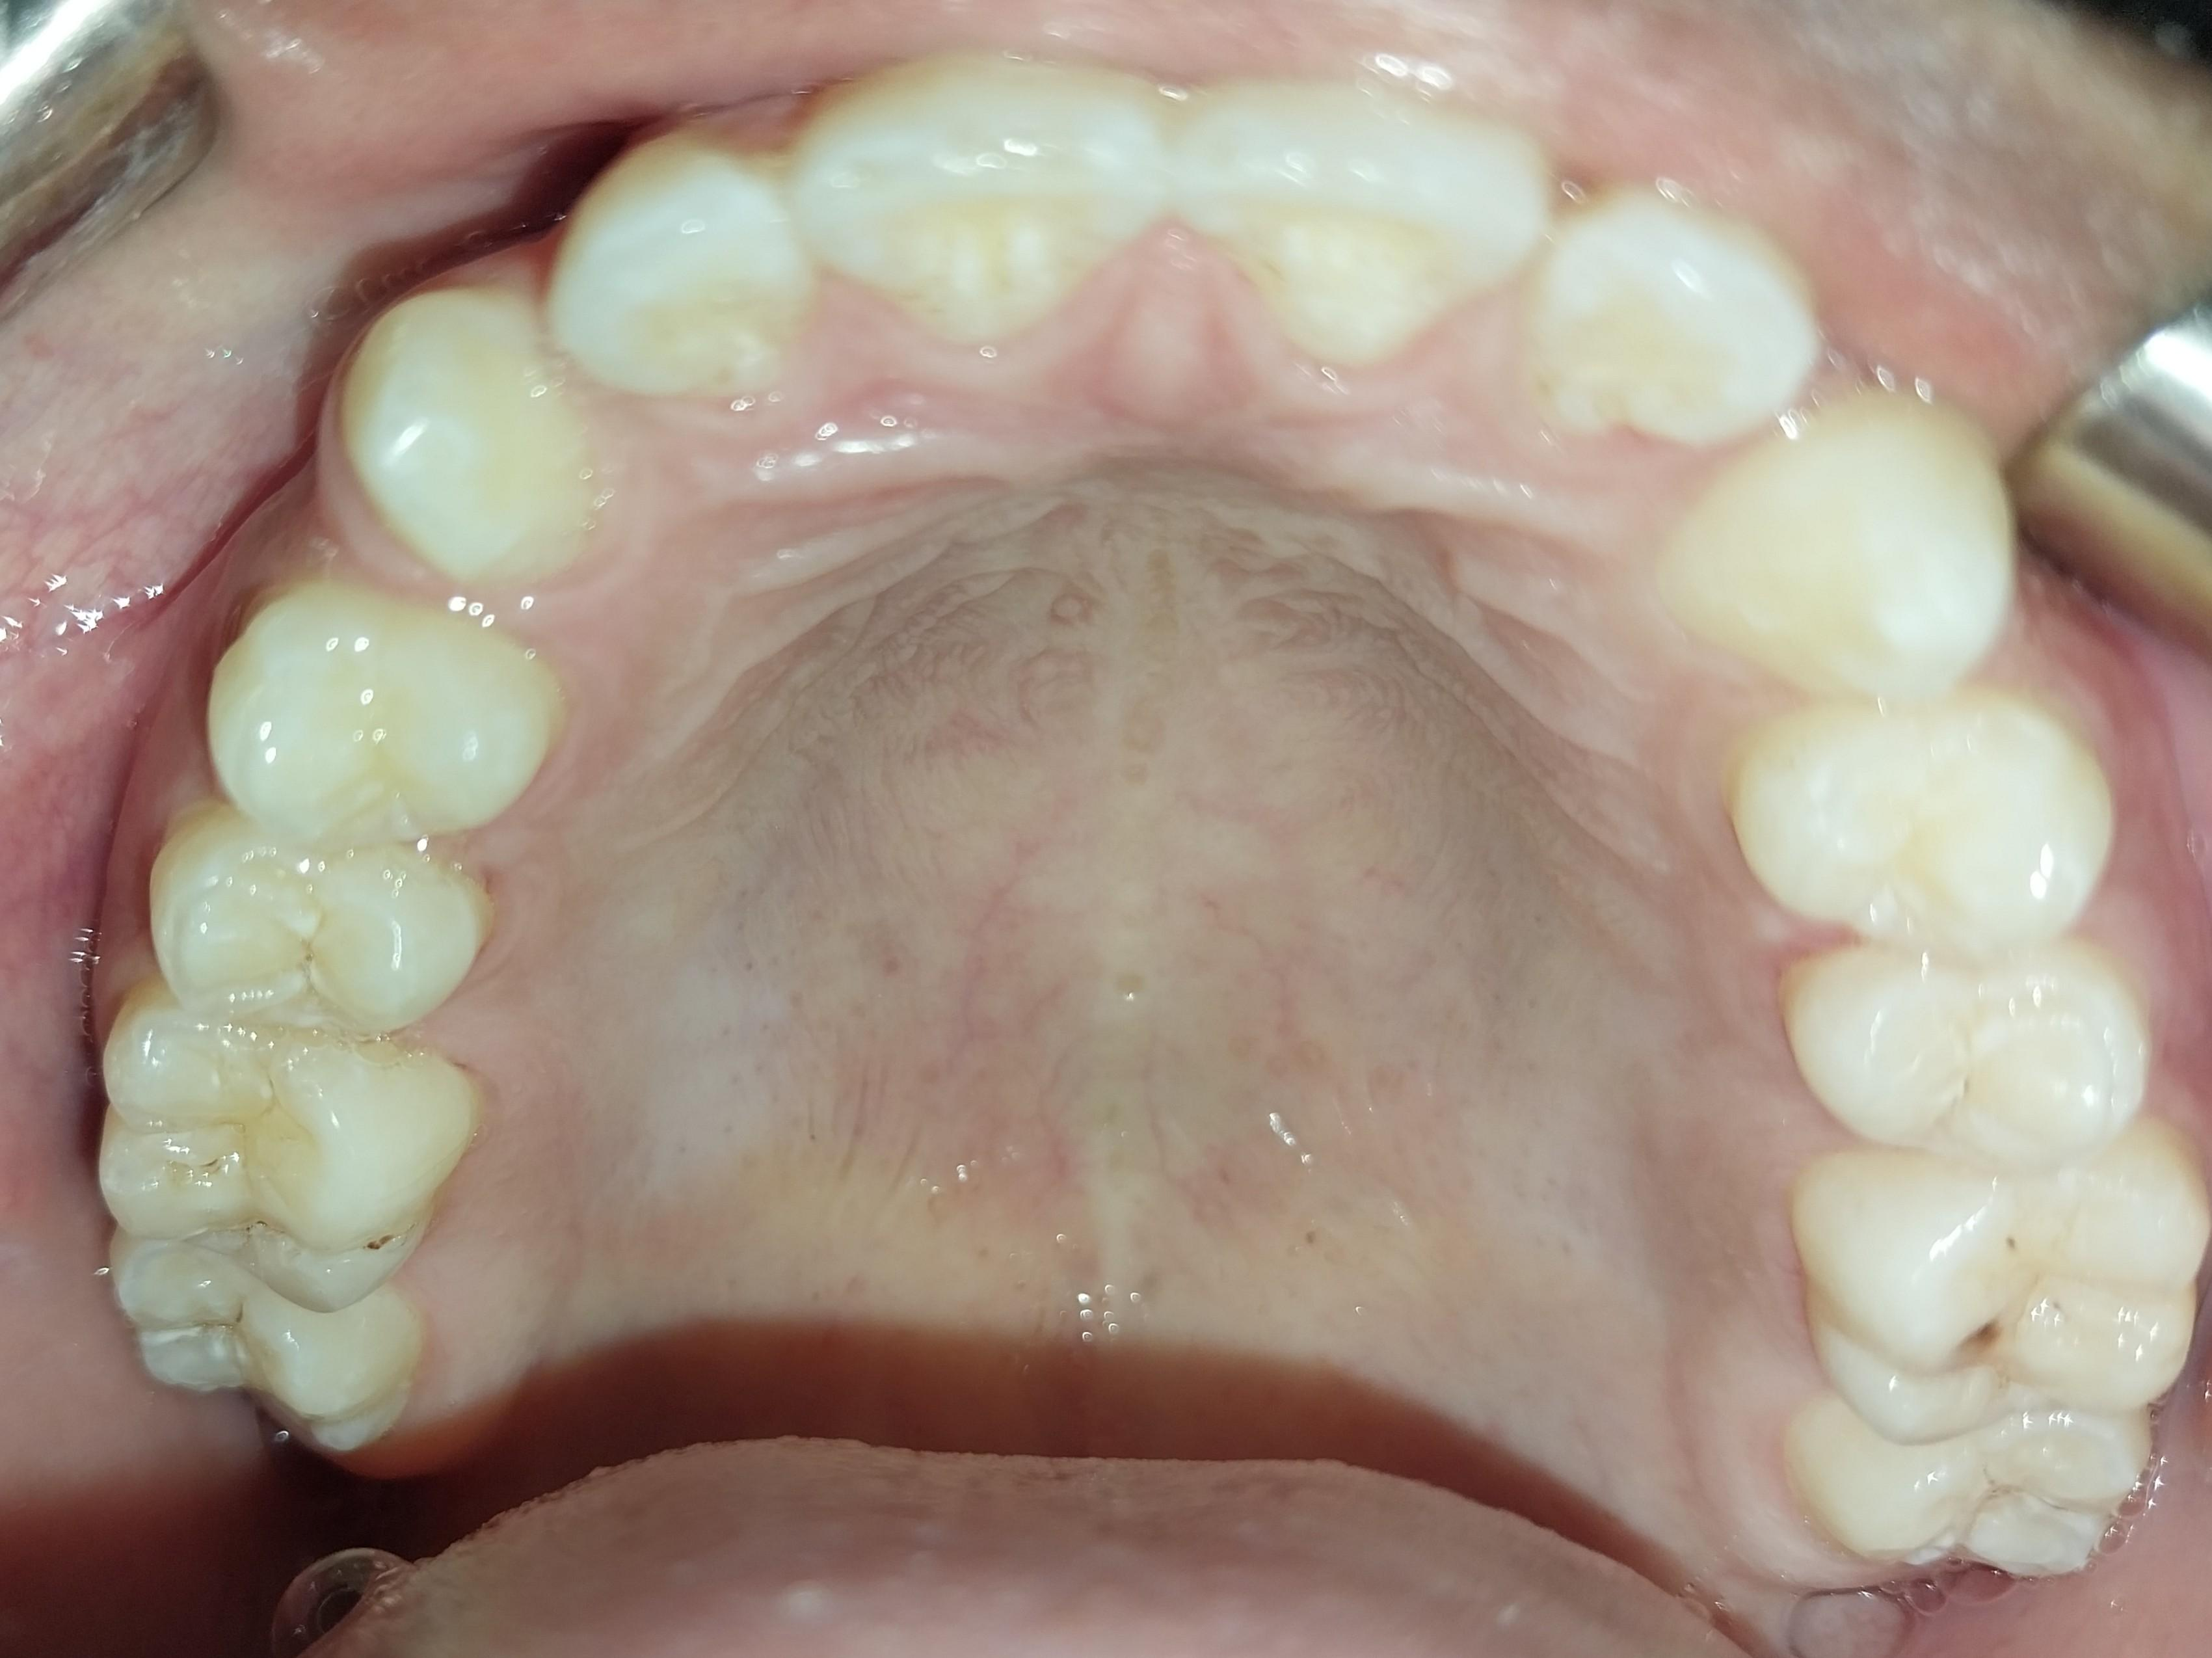D: (1804, 1148, 2211, 1439)
